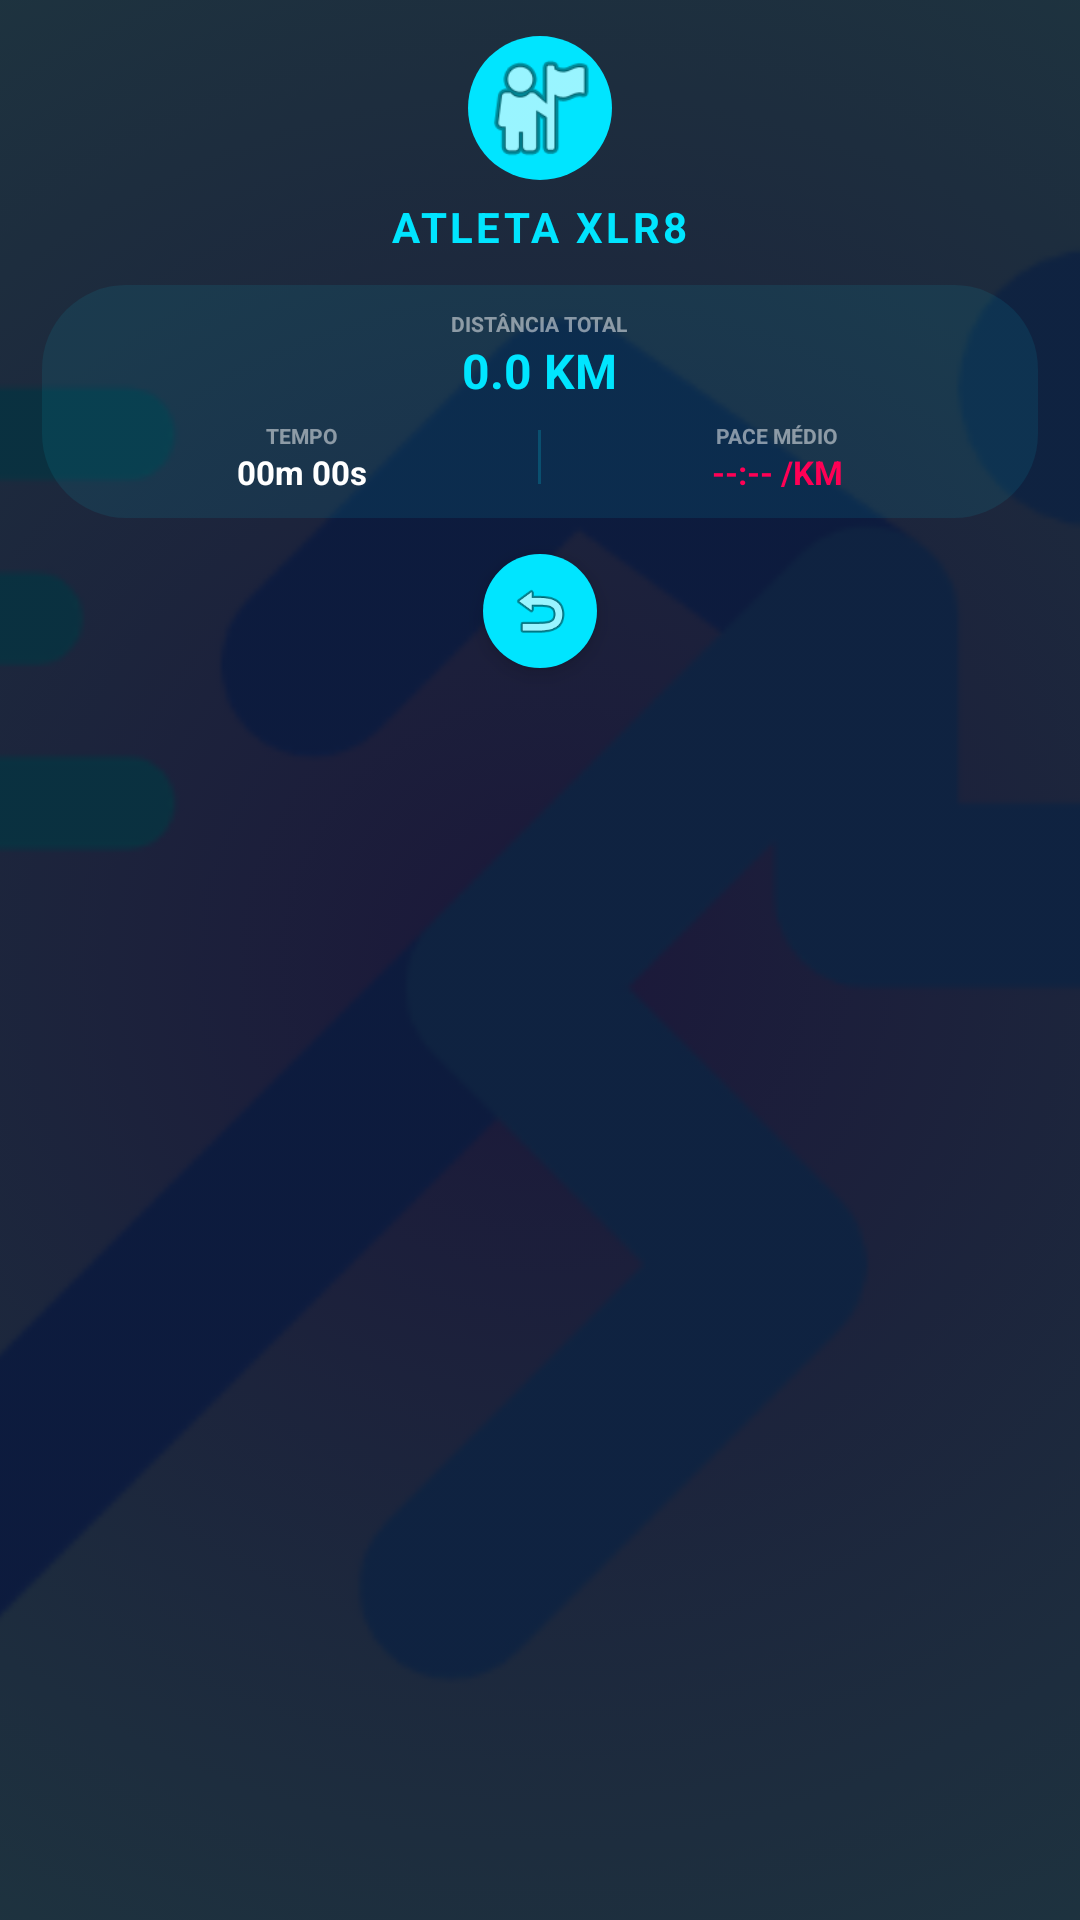

Screen size 1080 × 1920. Icon name, then its center in pixels as (x=x, y=y):
Voltar: (x=540, y=611)
